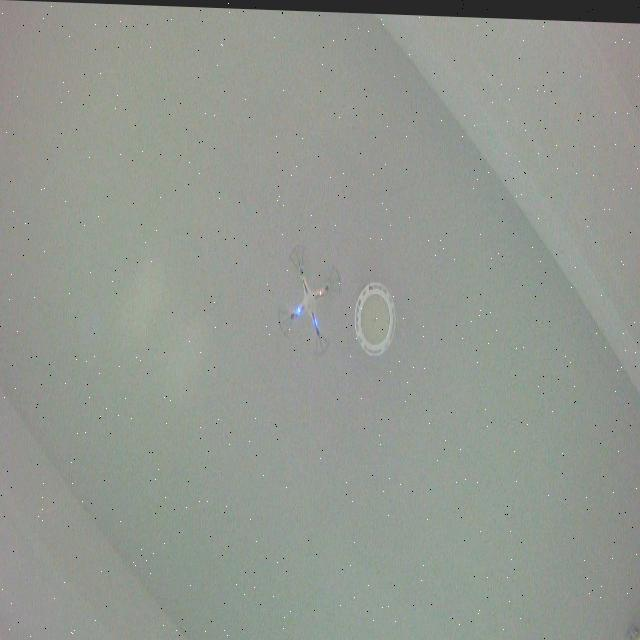drone: (276, 237, 344, 357)
